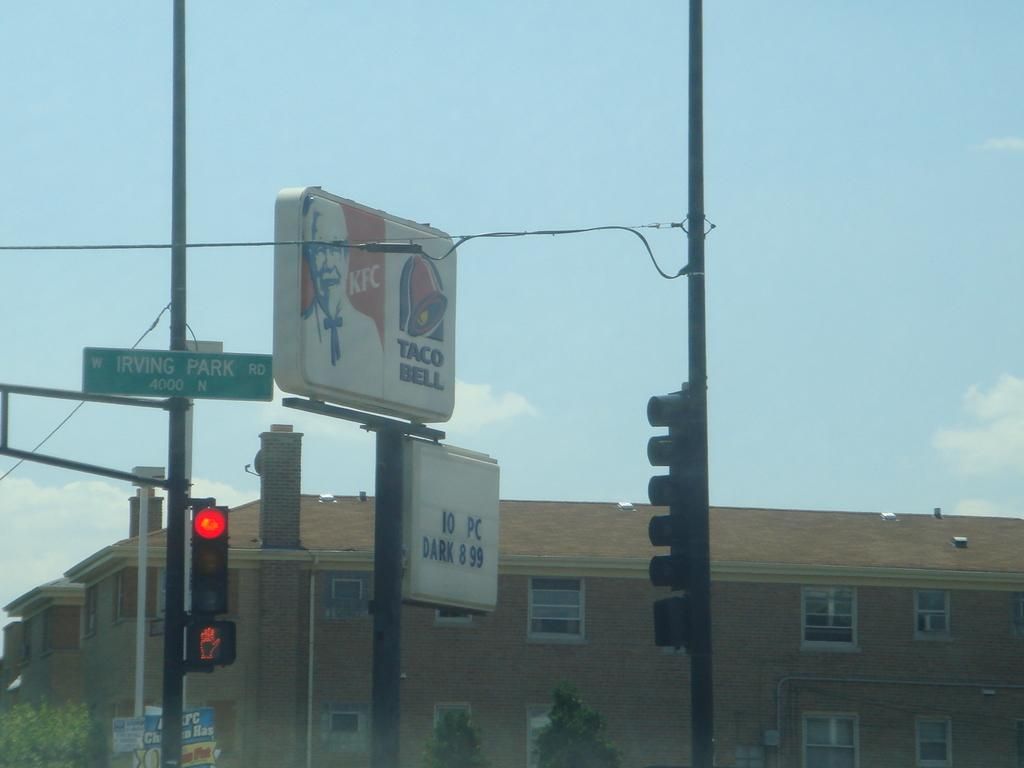red_light: (191, 504, 229, 617)
